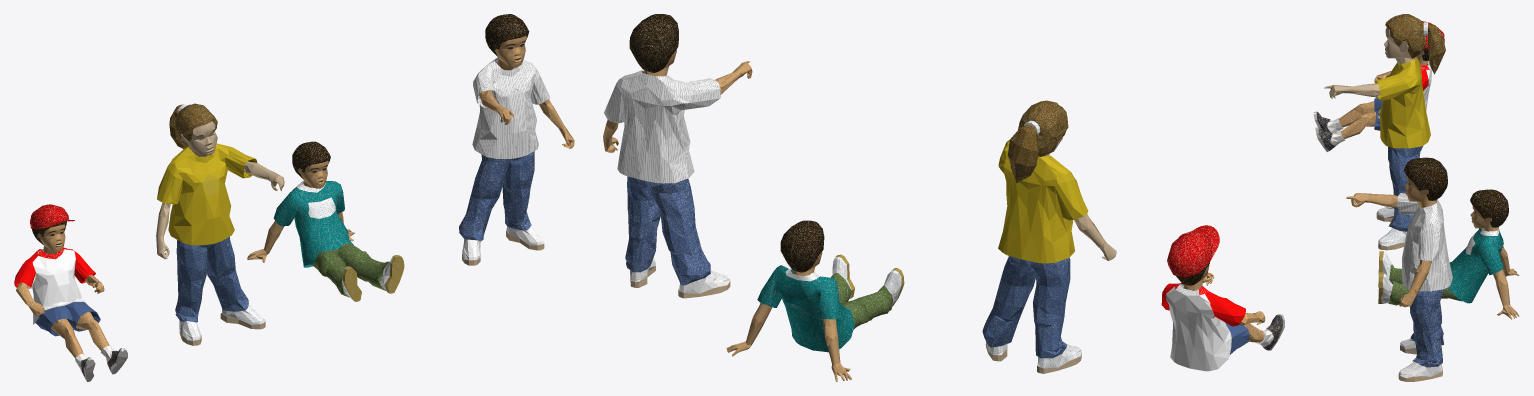
3 renders of one model, left to right at view 1: azimuth 30°, elevation 25°; view 2: azimuth 150°, elevation 25°; view 3: azimuth 270°, elevation 25°, orthographic. The views are drawn at different scales.
Parts seen in each view (by area): view 1: GIRL_POINTING (×6), group_1 (×4), BOY_SITTING (×6), KID_SITTING (×6), group_0 (×2); view 2: GIRL_POINTING (×5), group_1 (×3), BOY_SITTING (×5), KID_SITTING (×3), group_0; view 3: GIRL_POINTING (×7), group_1 (×6), BOY_SITTING (×7), group_0 (×2), KID_SITTING (×3).
Boxes of the visible parts, x1,y1,x2,y2 form: GIRL_POINTING (×6): (156, 103, 284, 322); group_1 (×4): (459, 57, 574, 241); BOY_SITTING (×6): (247, 141, 404, 297); KID_SITTING (×6): (30, 204, 109, 358); group_0 (×2): (485, 14, 529, 69); GIRL_POINTING (×5): (982, 100, 1116, 358); group_1 (×3): (604, 70, 730, 293); BOY_SITTING (×5): (726, 220, 893, 381); KID_SITTING (×3): (1166, 225, 1245, 371); group_0: (629, 14, 678, 72); GIRL_POINTING (×7): (1324, 14, 1445, 246); group_1 (×6): (1346, 193, 1452, 381); BOY_SITTING (×7): (1381, 189, 1519, 319); group_0 (×2): (1404, 157, 1447, 207); KID_SITTING (×3): (1318, 101, 1375, 150).
Bounding box in the file's own units: 106 × 36.93 × 41.64.
25 materials, 2 textured.
